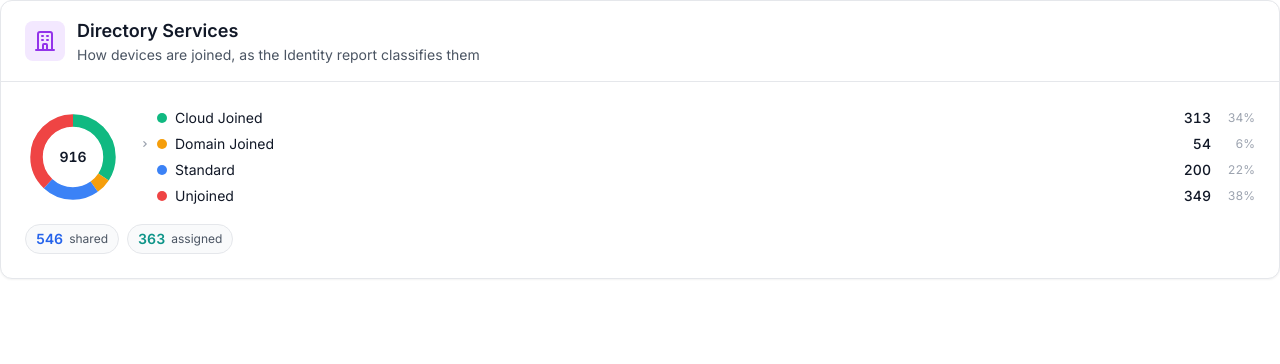
Test: InsightCards › shows Directory Services with the Identity report classes and no views of its own
Expected: the text "Cloud Joined" is shown, [175, 109, 263, 126]
Expected: the text "Broken" is not shown
Click the button named "Expand Domain Joined".
click(145, 144)  # box [137, 136, 153, 152]
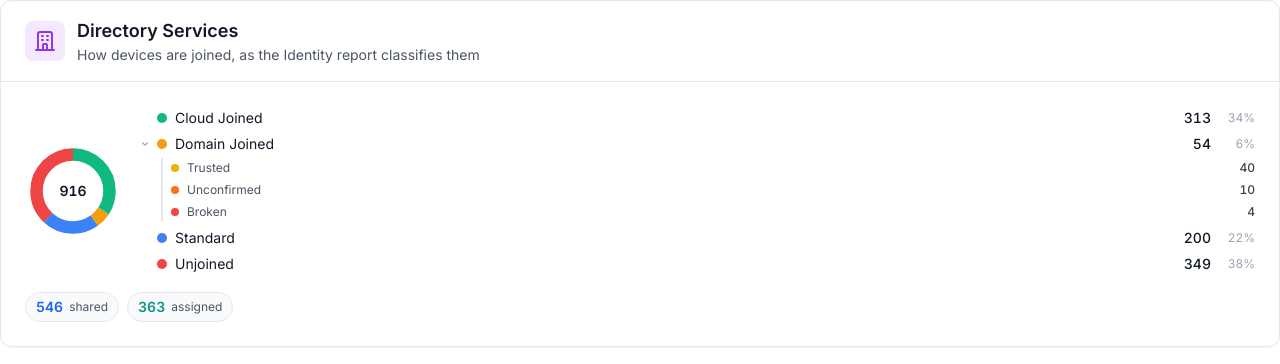
Result: the button named "Collapse Domain Joined" is expanded at [137, 136, 153, 152]
